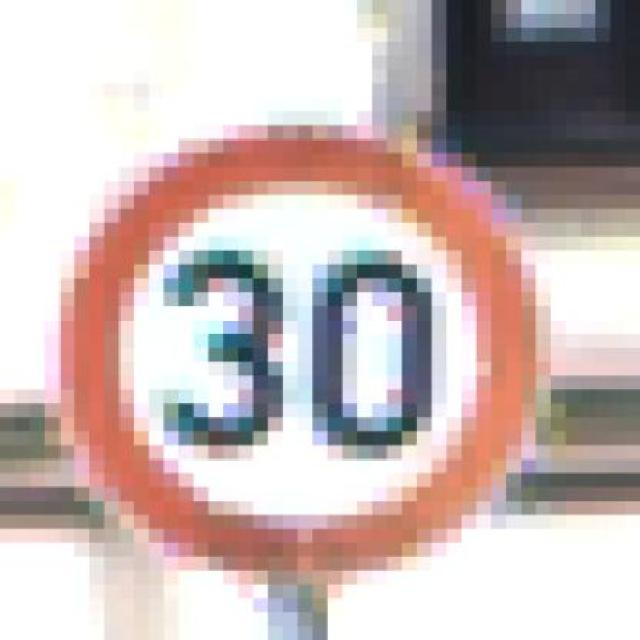Speed Limit 30 KMPh: (59, 97, 566, 585)
